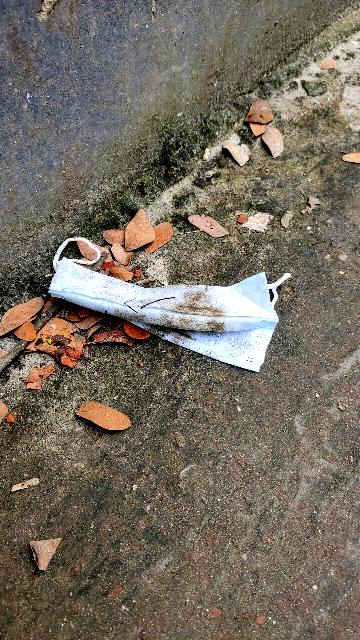mask: (28, 203, 310, 397)
